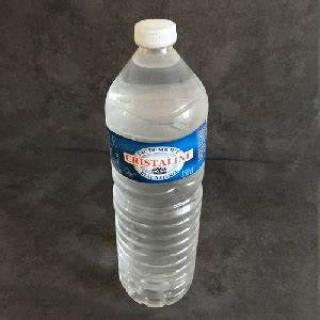Anorganik: (97, 10, 219, 316)
